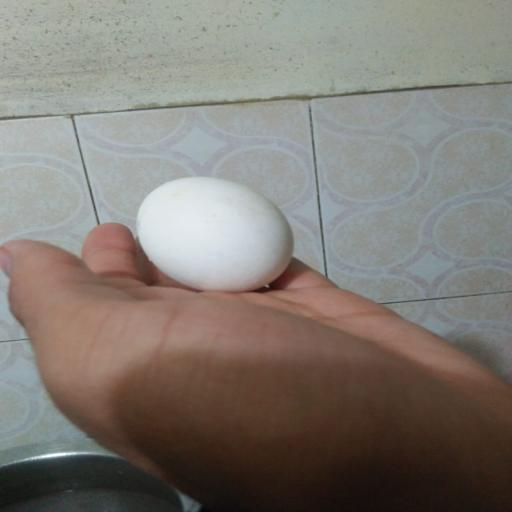telur: (131, 175, 295, 299)
